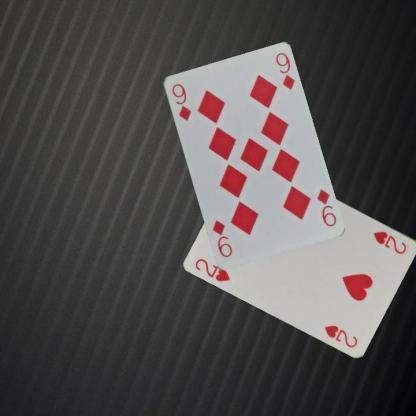2h: (192, 256, 232, 283), (370, 228, 408, 256)
9d: (168, 80, 192, 122), (314, 186, 338, 228)
